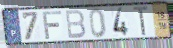0: (88, 7, 108, 39)
4: (112, 7, 131, 39)
7: (22, 10, 40, 42)
B: (64, 9, 87, 40)
F: (41, 10, 63, 40)
T: (132, 6, 150, 37)
